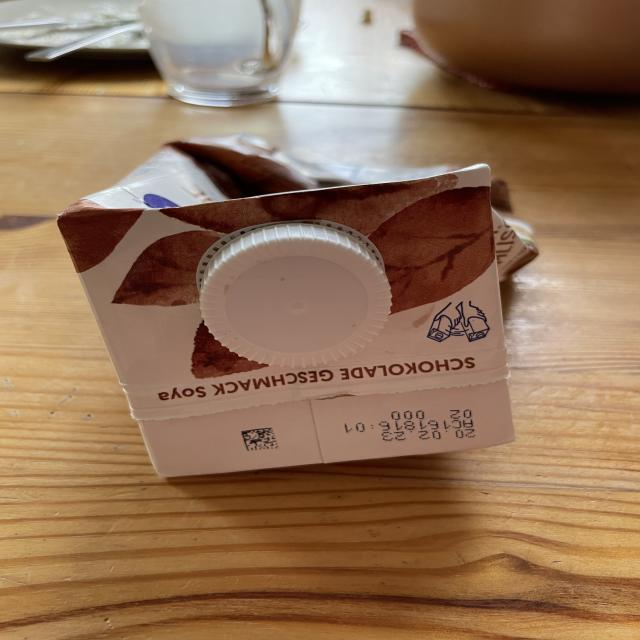non_white_jug: (53, 136, 536, 488)
